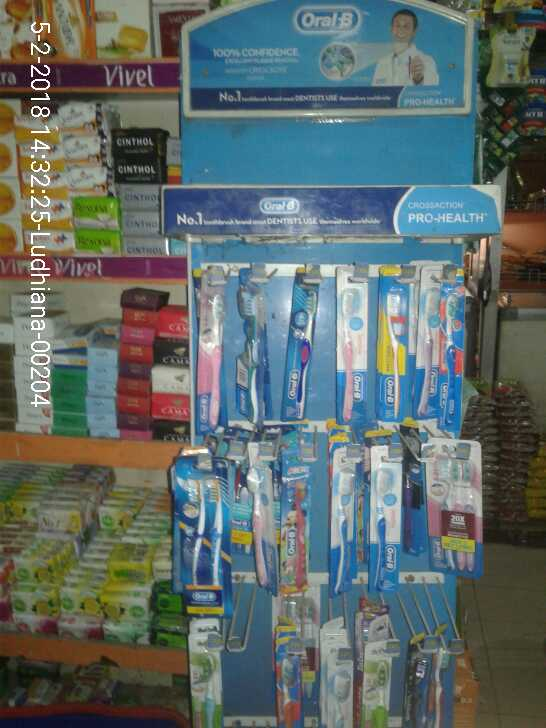oralb: (413, 266, 465, 427), (430, 443, 486, 582), (186, 266, 225, 435), (290, 280, 327, 421), (235, 281, 267, 430), (324, 462, 359, 598), (238, 464, 270, 601), (186, 473, 220, 588), (374, 461, 401, 592), (339, 275, 362, 421), (383, 282, 407, 419), (290, 469, 313, 591)
